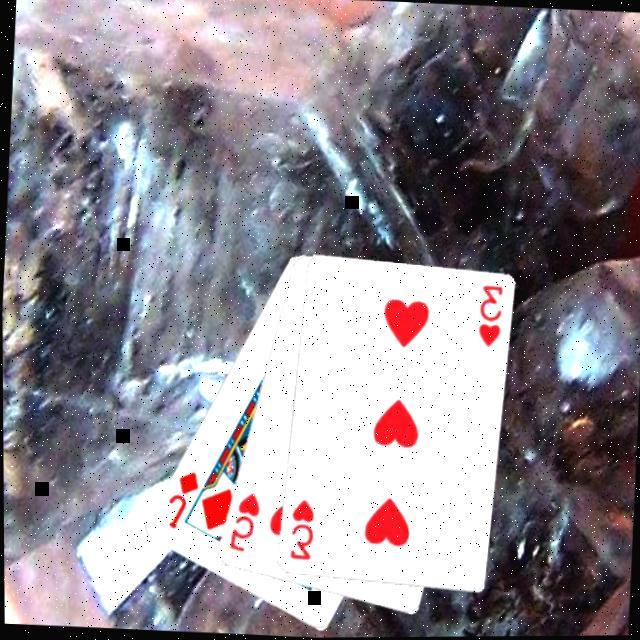3H: (472, 280, 506, 350), (284, 495, 316, 562)
5H: (224, 486, 262, 554)
JD: (162, 465, 200, 532)
